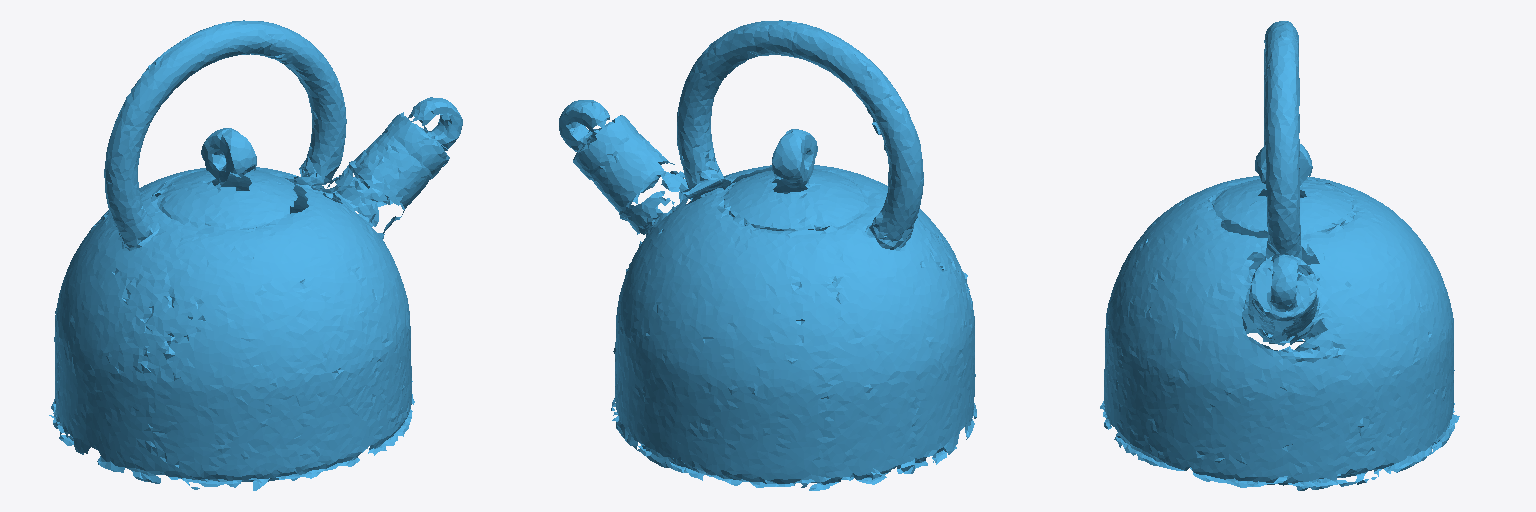
The robot description file, URDF, robot "graspable":
<?xml version="1.0" ?>
<!-- =================================================================================== -->
<!-- |    This document was autogenerated by xacro from [local-path]/ws_velma/underlay/src/barrett_hand_robot/barrett_hand_defs/robots/barrett_hand.urdf.xml | -->
<!-- |    EDITING THIS FILE BY HAND IS NOT RECOMMENDED                                 | -->
<!-- =================================================================================== -->
<robot name="graspable" xmlns:controller="http://playerstage.sourceforge.net/gazebo/xmlschema/#controller" xmlns:geom="http://playerstage.sourceforge.net/gazebo/xmlschema/#geom" xmlns:interface="http://playerstage.sourceforge.net/gazebo/xmlschema/#interface" xmlns:sensor="http://playerstage.sourceforge.net/gazebo/xmlschema/#sensor" xmlns:xacro="http://www.ros.org/wiki/xacro">
  <material name="DarkGrey">
    <color rgba="0.3 0.3 0.3 1.0"/>
  </material>
  <material name="Red">
    <color rgba="0.3 0.3 0.3 1.0"/>
  </material>
  <material name="Black">
    <color rgba="0 0 0 1.0"/>
  </material>
  <material name="Orange">
    <color rgba="1.0 0.487 0 1.0"/>
  </material>
  <material name="Silver">
    <color rgba="1.0 1.0 1.0 1.0"/>
  </material>
  <material name="Grey">
    <color rgba="0.7 0.7 0.7 1.0"/>
  </material>
  <material name="Blue">
    <color rgba="0.0 0.0 0.8 1.0"/>
  </material>
  <material name="HandGray">
    <color rgba="0.953 0.996 0.694 1.0"/>
  </material>
  <material name="SickBlue">
    <color rgba="0.3058 0.5921 0.7294 1.0"/>
  </material>
  <link name="world"/>
  <joint name="arm_world_joint" type="floating">
    <origin rpy="0 0 0" xyz="0 0 0"/>
    <parent link="world"/>
    <child link="graspable"/>
  </joint>
  <link name="graspable">
    <inertial>
      <origin xyz="0.0 0.0 0.0"/>
      <mass value="0.63352875"/>
      <inertia ixx="0.00102103" ixy="0.00000775" ixz="-0.00001230" iyy="0.00080944" iyz="-0.00014417" izz="0.00068788"/>
    </inertial>
    <visual>
      <origin rpy="0 0 0" xyz="0 0 0"/>
      <geometry>
        <mesh filename="package://barrett_hand_sim_dart/meshes/kettle15d.stl"/>
      </geometry>
    </visual>
    <!-- collision mesh used for whole arm motion planning -->
    <!-- collision mesh used for grasp planning -->
    <collision>
      <origin rpy="0 0 0" xyz="0 0 0"/>
      <geometry>
        <mesh filename="package://barrett_hand_sim_dart/meshes/kettle15d.stl"/>
      </geometry>
    </collision>
  </link>
</robot>

--- What the picture shows (computed from the rendered views, not written in the file) ---
Views: 3 orthographic renders of the robot side by side, from view 1: azimuth 30°, elevation 25°; view 2: azimuth 150°, elevation 25°; view 3: azimuth 270°, elevation 25°.
Robot: graspable — 2 links, 1 joints (1 floating); root link world; default pose: every joint at zero.
Visible links, largest first — view 1: graspable; view 2: graspable; view 3: graspable.
Link boxes in pixels (box(x1,y1,x2,y2)): graspable: box(49, 20, 462, 490); graspable: box(559, 20, 976, 490); graspable: box(1100, 21, 1459, 490).
Bounding box of the posed robot: 0.3573 × 0.2932 × 0.3513 m (x, y, z).
Meshes: 1 distinct files referenced, 1 mesh visuals loaded (1 binary STL).
